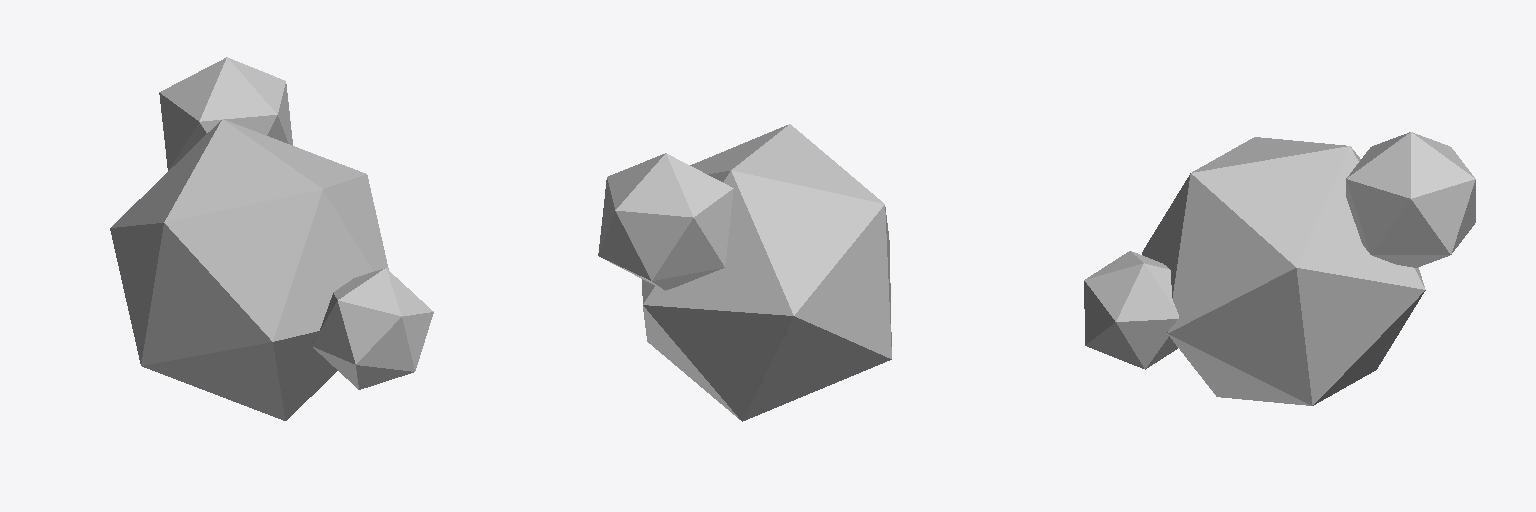
The model's file is Gold.obj.
The picture shows the model from 3 angles: view 1: azimuth 30°, elevation 25°; view 2: azimuth 150°, elevation 25°; view 3: azimuth 270°, elevation 25°; orthographic projection.
Parts seen in each view (by area): view 1: Icosphere.003, Icosphere.002, Icosphere.001; view 2: Icosphere.003, Icosphere.001; view 3: Icosphere.003, Icosphere.001, Icosphere.002.
Part boxes in pixels (x1,y1,x2,y2): Icosphere.003: (110,119,388,420); Icosphere.002: (311,268,433,389); Icosphere.001: (159,57,292,170); Icosphere.003: (642,124,891,421); Icosphere.001: (598,153,733,290); Icosphere.003: (1142,137,1425,405); Icosphere.001: (1346,132,1475,267); Icosphere.002: (1084,251,1178,369).
Size of the model in its own units: 1.82 by 2.06 by 2.58.